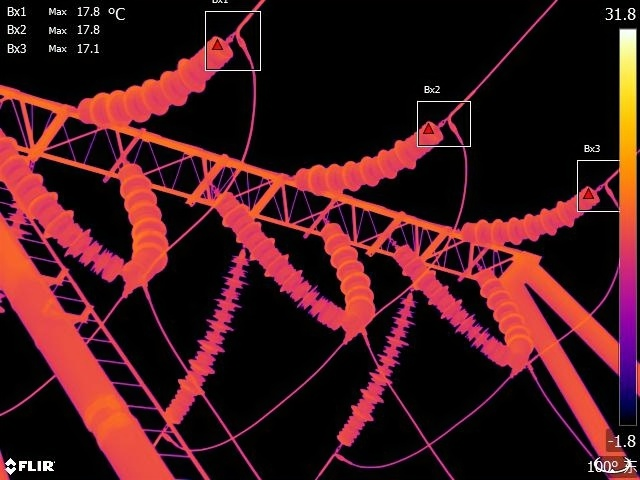clamp: (223, 24, 257, 59), (321, 442, 359, 470), (435, 108, 464, 136), (152, 423, 180, 449), (595, 172, 615, 201)
insulator: (219, 182, 346, 330), (1, 133, 128, 277), (68, 30, 232, 139), (161, 233, 249, 426), (399, 248, 503, 367), (337, 289, 415, 447), (291, 122, 447, 199), (110, 154, 177, 281), (458, 180, 595, 238), (322, 224, 382, 337), (478, 270, 534, 380)
